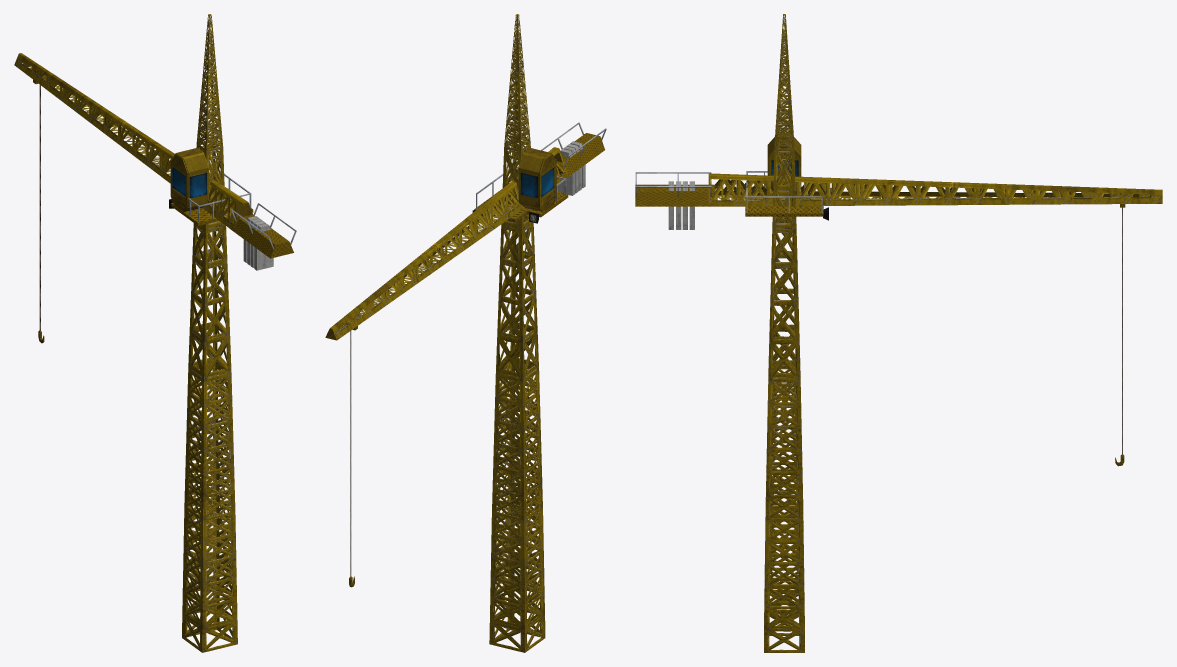
File: crane.fbx
3 views of the same model, side by side, from view 1: azimuth 30°, elevation 25°; view 2: azimuth 150°, elevation 25°; view 3: azimuth 270°, elevation 25° (orthographic).
Parts seen in each view (by area): view 1: crane; view 2: crane; view 3: crane.
Boxes of the visible parts, <box> form: crane: <box>14,14,296,652</box>; crane: <box>325,14,606,652</box>; crane: <box>635,14,1162,652</box>.
Size of the model in its own units: 3.1 by 33.62 by 25.52.
